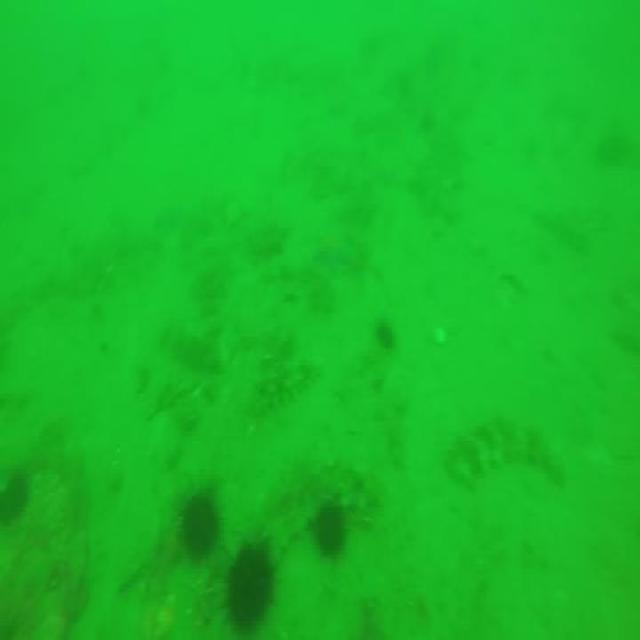echinus: (229, 534, 281, 623), (314, 498, 348, 561), (181, 501, 216, 558), (4, 463, 20, 528)
holothurian: (447, 411, 564, 491)
starfish: (313, 229, 356, 275)
